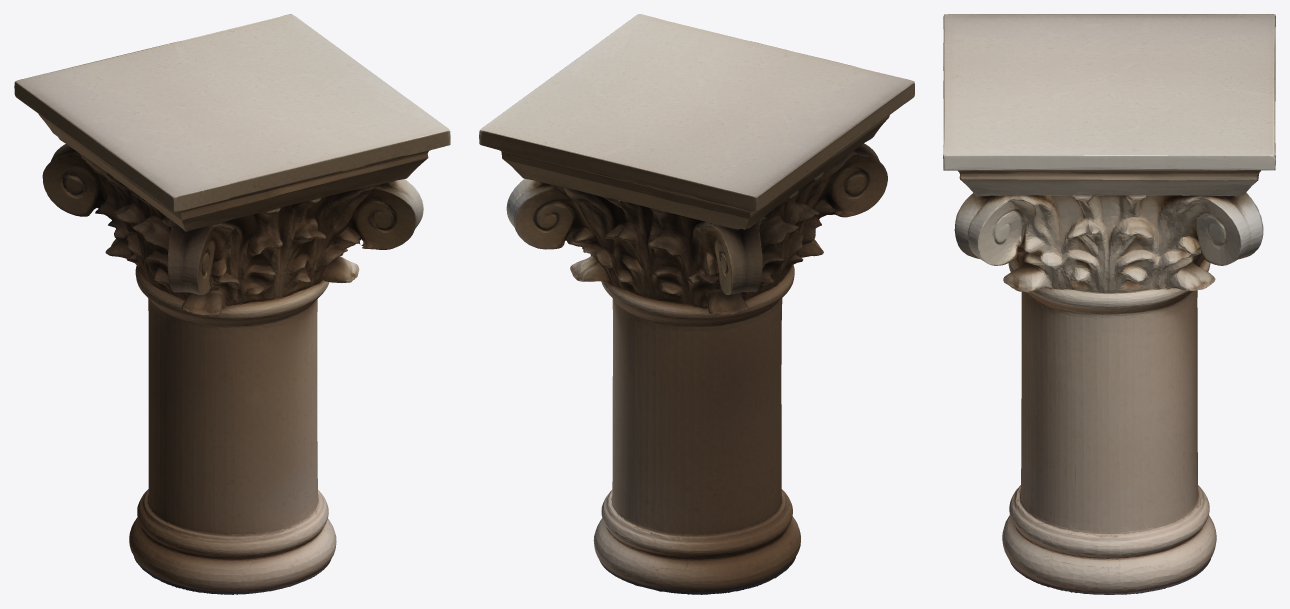
3 renders of one model, left to right at view 1: azimuth 30°, elevation 25°; view 2: azimuth 150°, elevation 25°; view 3: azimuth 270°, elevation 25°, orthographic. The views are drawn at different scales.
Parts seen in each view (by area): view 1: geometry_0; view 2: geometry_0; view 3: geometry_0.
Part boxes in pixels (x1=…): geometry_0: x1=14, y1=14, x2=450, y2=594; geometry_0: x1=479, y1=14, x2=914, y2=594; geometry_0: x1=943, y1=14, x2=1275, y2=594.
Bounding box in the file's own units: 0.6508 × 1 × 0.646.
Materials: 1 (1 with a texture image).
